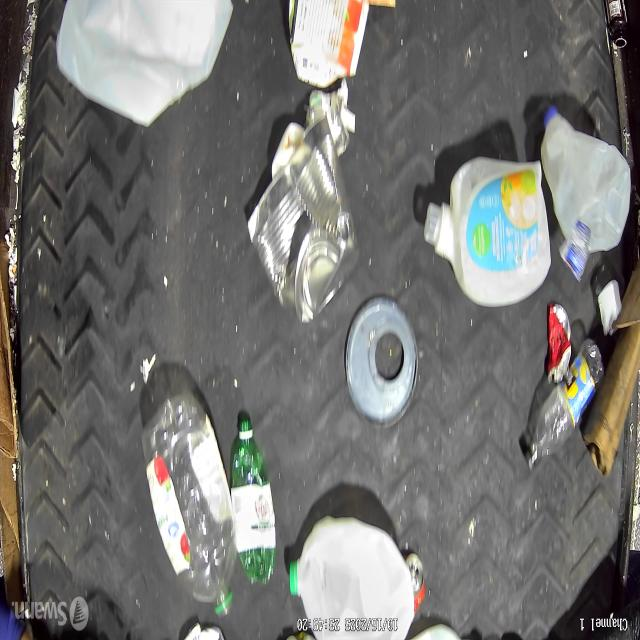can: (249, 137, 352, 319), (288, 1, 370, 88), (544, 303, 570, 380)
milk_jug: (54, 0, 230, 127), (437, 159, 548, 307), (287, 514, 415, 630), (540, 107, 632, 252)
plastic_bottle: (142, 392, 235, 614), (524, 346, 604, 466), (232, 416, 277, 589)
